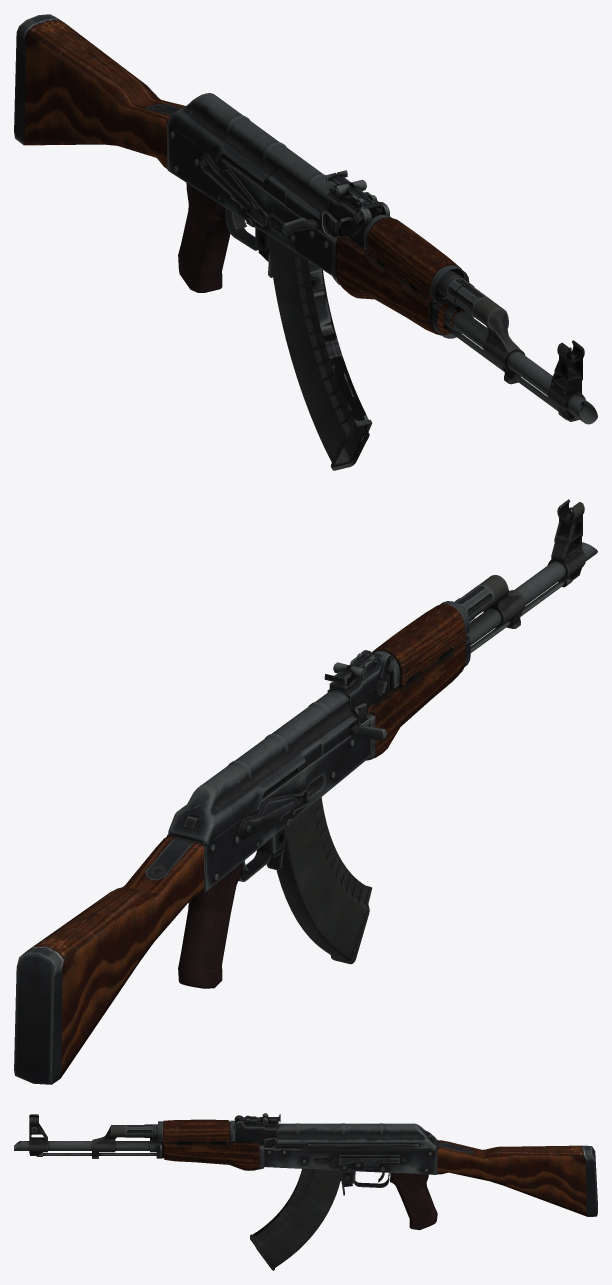
3 renders of one model, top to bottom at view 1: azimuth 30°, elevation 25°; view 2: azimuth 150°, elevation 25°; view 3: azimuth 270°, elevation 25°, orthographic. The views are drawn at different scales.
Visible parts, largest first — view 1: ak-47; view 2: ak-47; view 3: ak-47.
Part boxes in pixels (box(x1,y1,x2,y2)): ak-47: box(14, 14, 597, 470); ak-47: box(14, 499, 597, 1084); ak-47: box(14, 1113, 597, 1270).
Bounding box in the file's own units: 299 × 1091 × 3775.
1 material, 1 textured.
